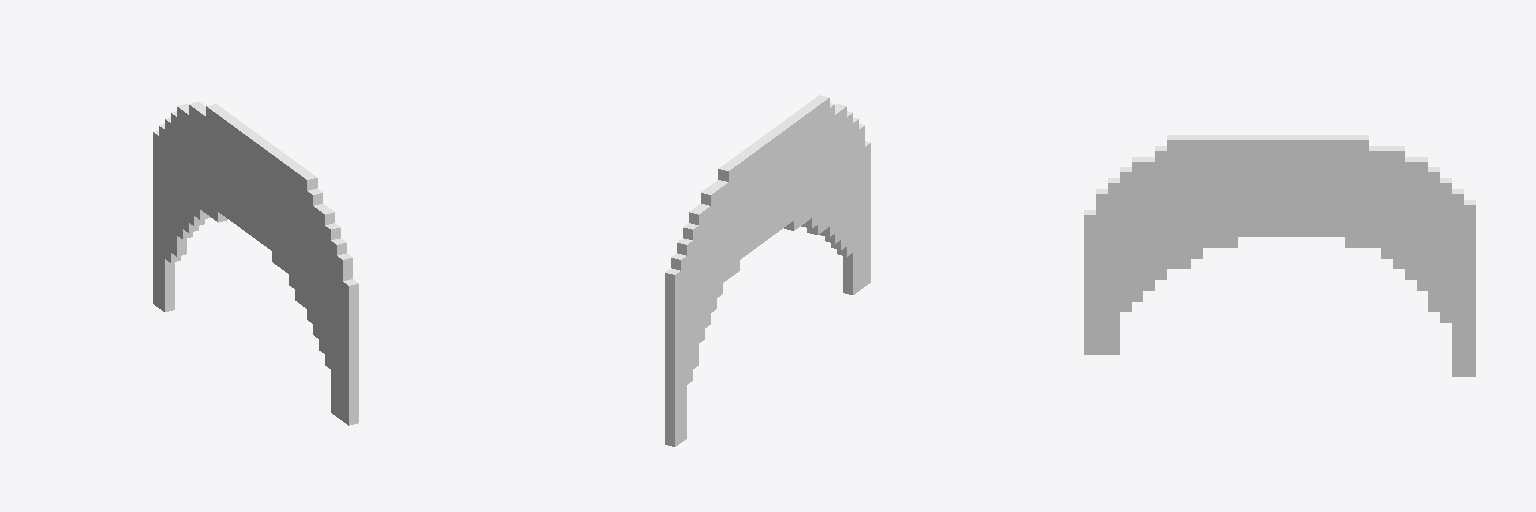
File: MagicWorld-0.obj
3 renders of one model, left to right at view 1: azimuth 30°, elevation 25°; view 2: azimuth 150°, elevation 25°; view 3: azimuth 270°, elevation 25°, orthographic.
Parts seen in each view (by area): view 1: object 1; view 2: object 1; view 3: object 1.
Part boxes in pixels (left/top/right/bottom): object 1: left=153, top=102, right=358, bottom=425; object 1: left=665, top=95, right=870, bottom=446; object 1: left=1084, top=135, right=1475, bottom=376.
Size of the model in its own units: 0.1 by 2.2 by 3.3.